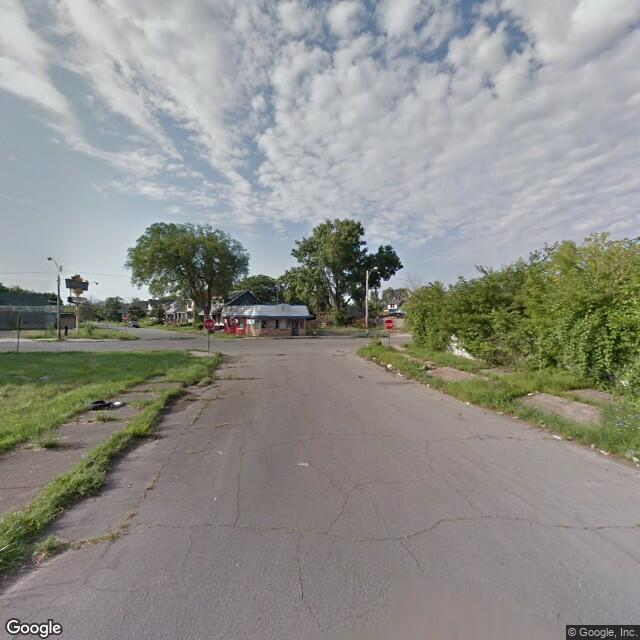litter: (89, 401, 113, 412), (117, 393, 128, 409), (383, 362, 394, 372), (594, 448, 608, 455), (525, 392, 541, 398), (129, 482, 136, 494), (555, 431, 561, 443), (465, 400, 473, 406), (426, 381, 432, 387)
